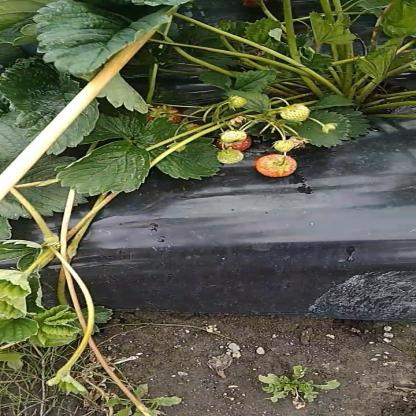ripe: (146, 101, 186, 128), (214, 132, 255, 152)
unripe: (254, 154, 302, 178), (280, 104, 314, 122), (216, 149, 246, 164), (218, 129, 249, 142), (272, 139, 298, 153), (227, 95, 250, 110)
